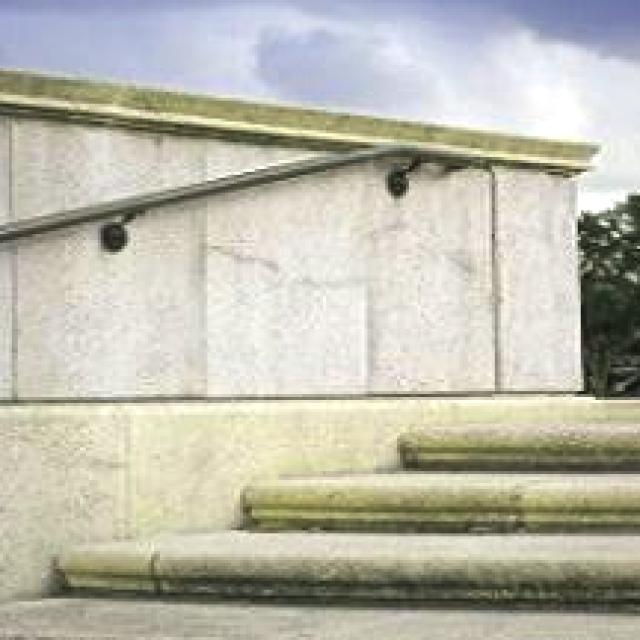upstair: (60, 339, 640, 614)
